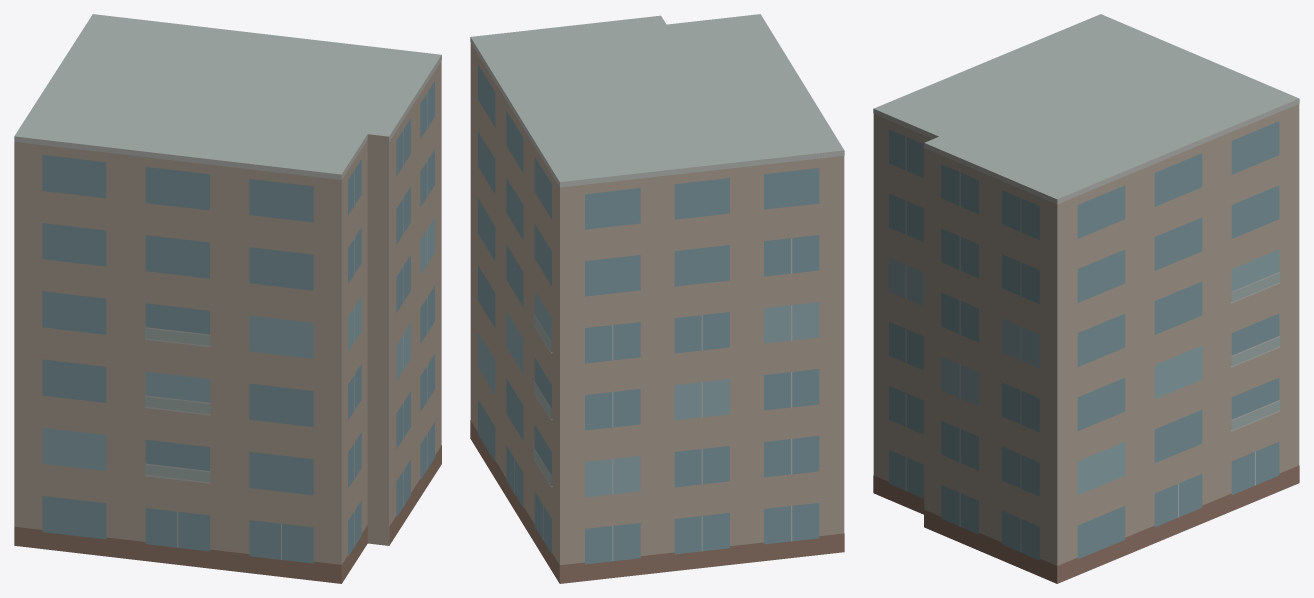
Rendered from survey-upis-32667679.glb.
3 renders of one model, left to right at view 1: azimuth 30°, elevation 25°; view 2: azimuth 150°, elevation 25°; view 3: azimuth 270°, elevation 25°, orthographic. The views are drawn at different scales.
Visible parts, largest first — view 1: survey-upis-32667679.tmp; view 2: survey-upis-32667679.tmp; view 3: survey-upis-32667679.tmp.
Part boxes in pixels (bbox=[...]): survey-upis-32667679.tmp: bbox=[14, 14, 441, 583]; survey-upis-32667679.tmp: bbox=[470, 14, 844, 583]; survey-upis-32667679.tmp: bbox=[873, 14, 1299, 583].
Size of the model in its own units: 18.93 by 18.3 by 18.38.
